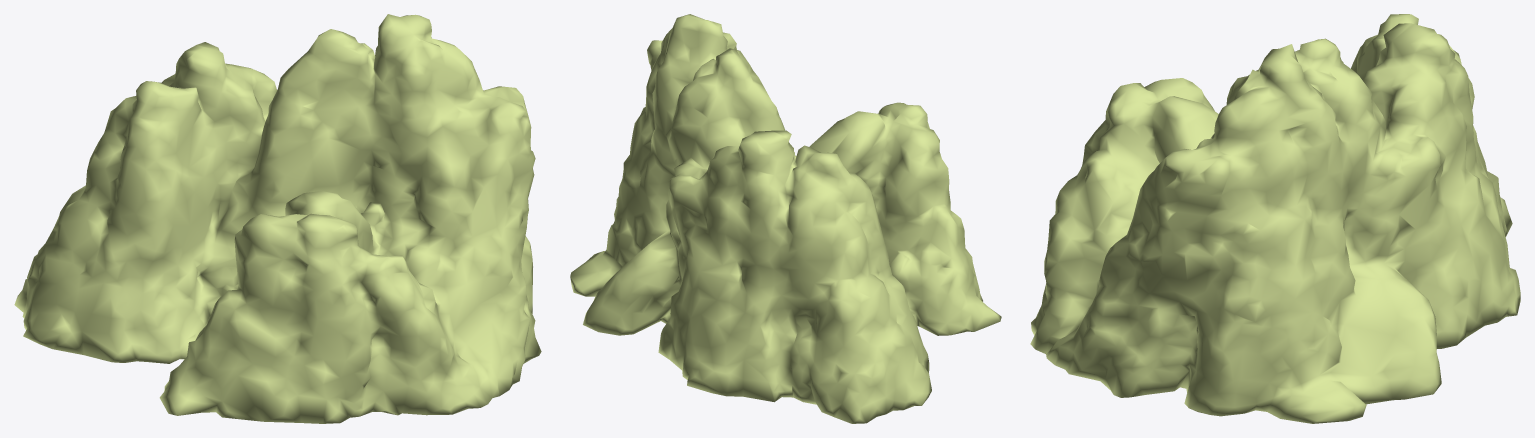
The picture shows the model from 3 angles, left to right: view 1: azimuth 30°, elevation 25°; view 2: azimuth 150°, elevation 25°; view 3: azimuth 270°, elevation 25°; orthographic projection. The views are drawn at different scales.
Visible parts, largest first — view 1: Rock_Small004; view 2: Rock_Small004; view 3: Rock_Small004.
Boxes of the visible parts, x1,y1,x2,y2 form: Rock_Small004: [14, 14, 541, 423]; Rock_Small004: [570, 14, 1001, 423]; Rock_Small004: [1030, 14, 1520, 423].
Size of the model in its own units: 30676 by 20568 by 28886.
